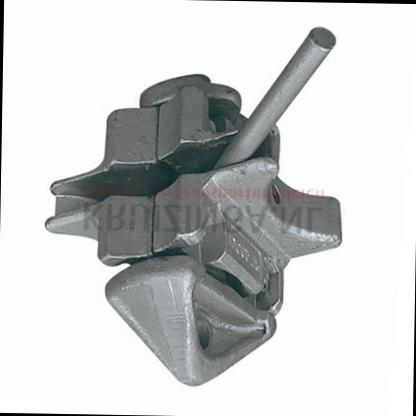Twistlock: (34, 14, 349, 392)
